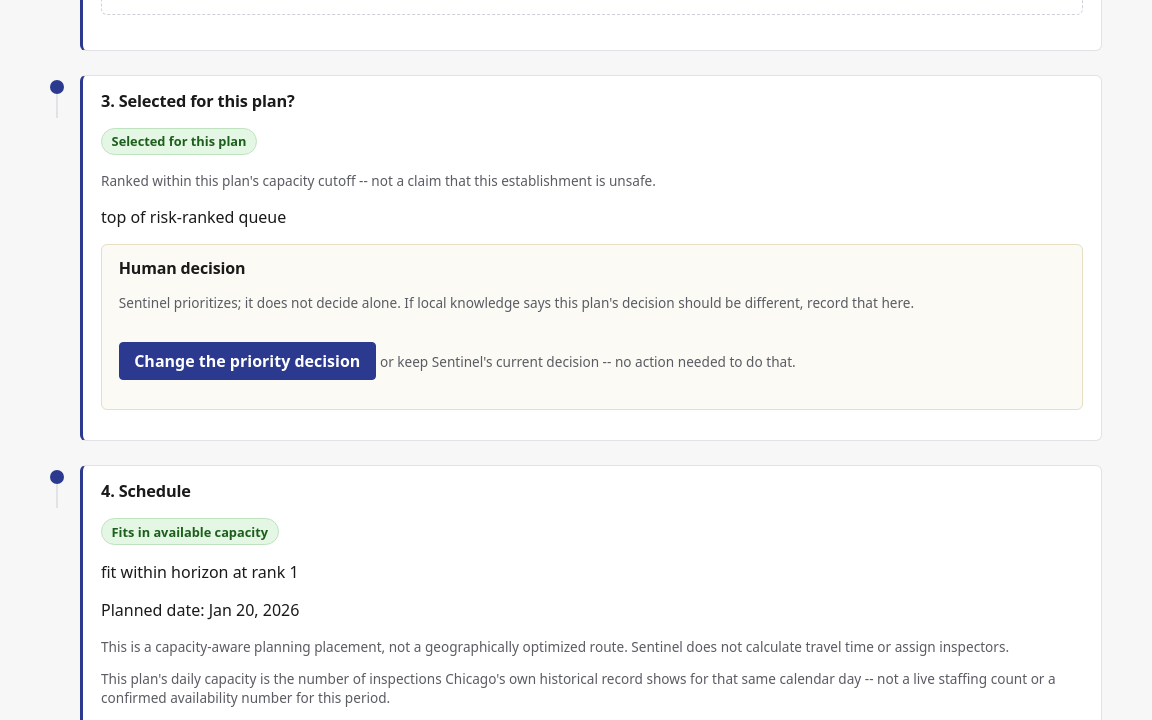
Test: EstablishmentDetailPage › shows a decision-history entry immediately after staging an override
The image size is (1152, 720).
(page scrolled)
Click the button "Change the priority decision" at (247, 361), box [119,342,376,380]
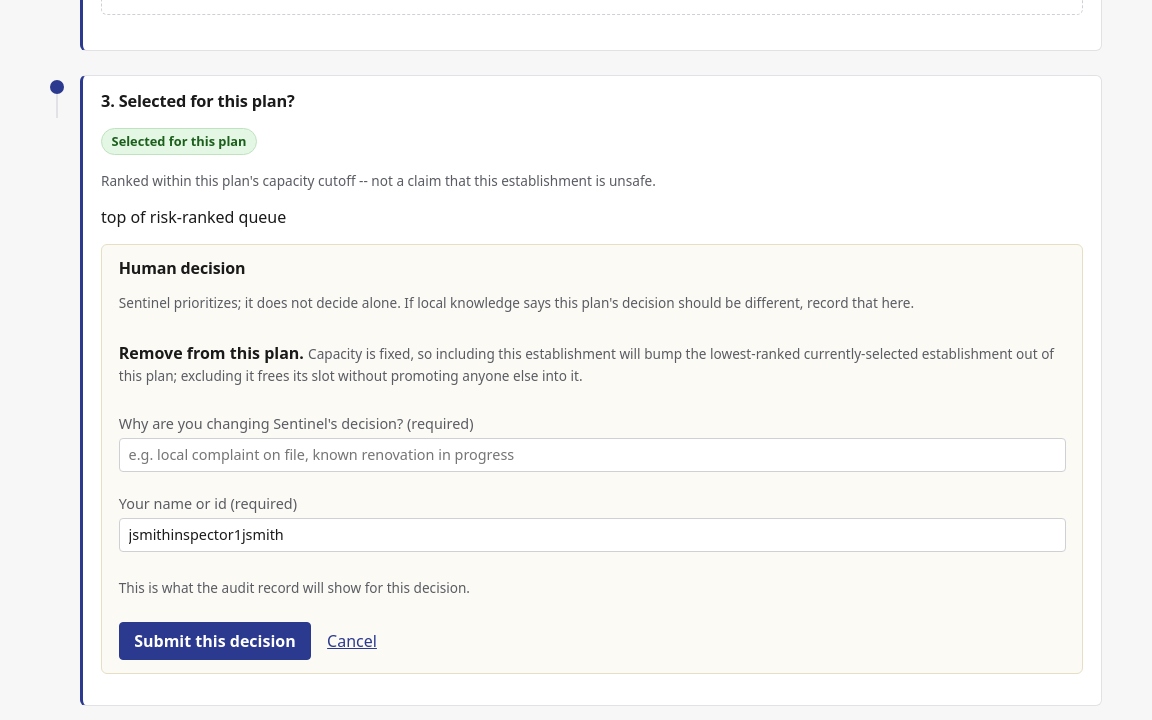
Type "local complaint" into the field labelled "Why are you changing Sentinel's decision? (required)" at (592, 455), box [119,438,1066,472]
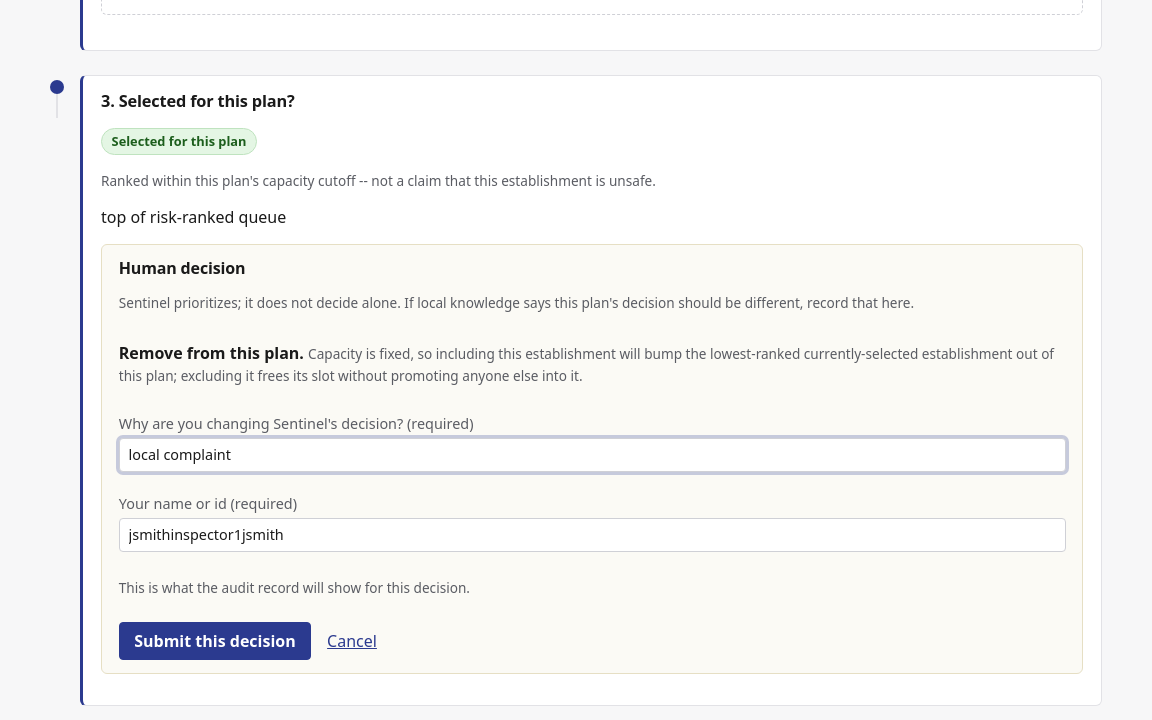
Type "jsmith" into the field labelled "Your name or id (required)" at (592, 535), box [119,518,1066,552]
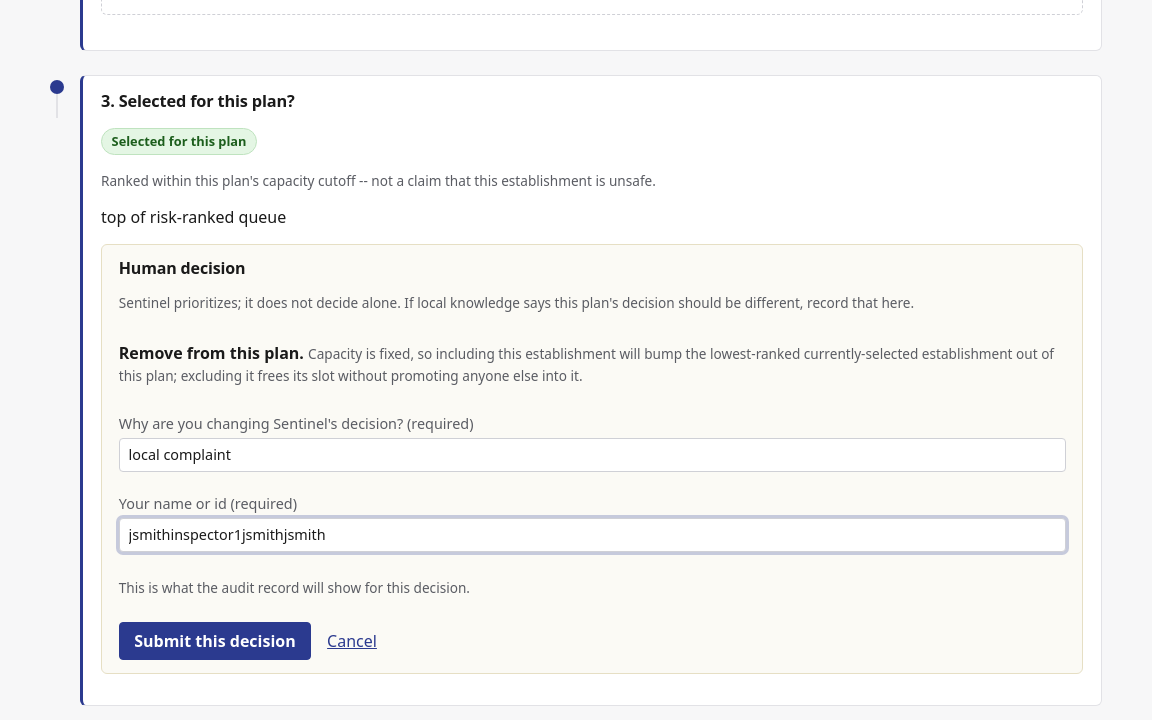
Click the button "Submit this decision" at (215, 641), box [119,622,311,660]
(page scrolled)
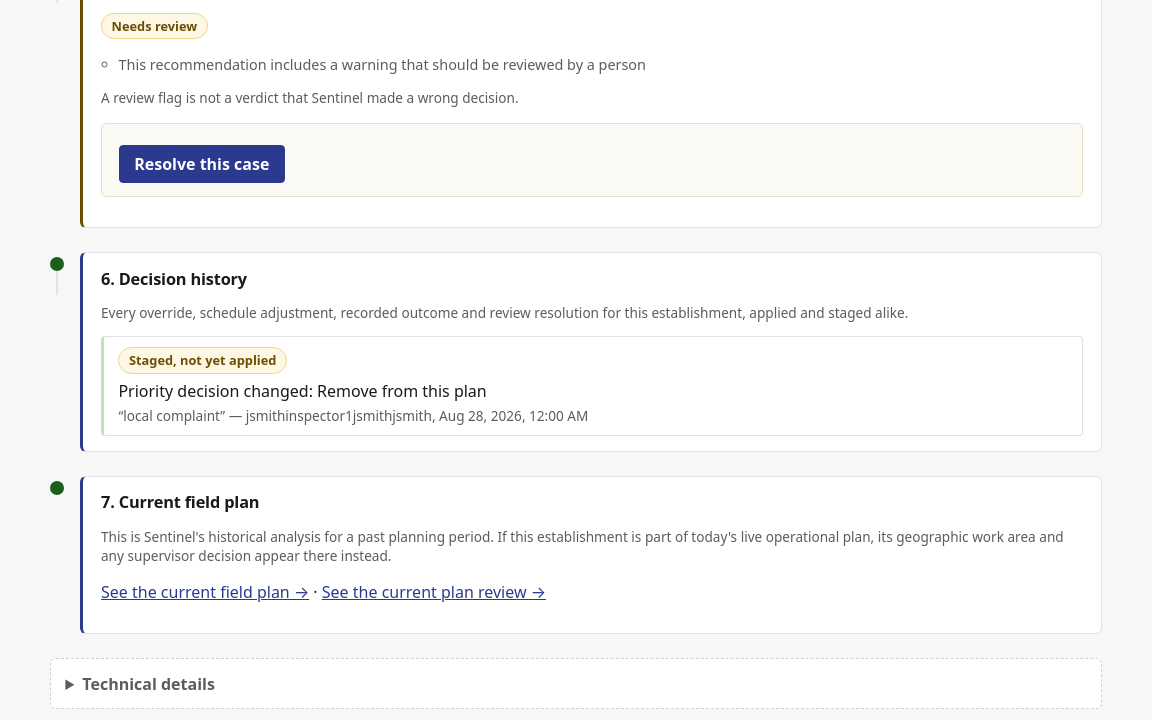
Result: the text "Staged, not yet applied" is shown at [118,347,287,374]
